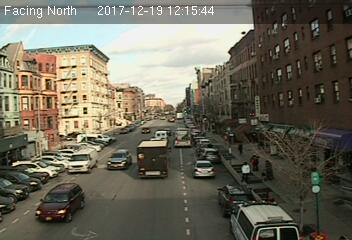car: (33, 180, 83, 222), (219, 184, 252, 214), (107, 149, 132, 170), (191, 159, 215, 177), (200, 147, 219, 162)
pedestrian: (239, 158, 251, 183), (262, 159, 275, 181)
police: (229, 197, 302, 240)
truck: (68, 146, 98, 173), (175, 127, 192, 147)
ups: (136, 140, 171, 180)
